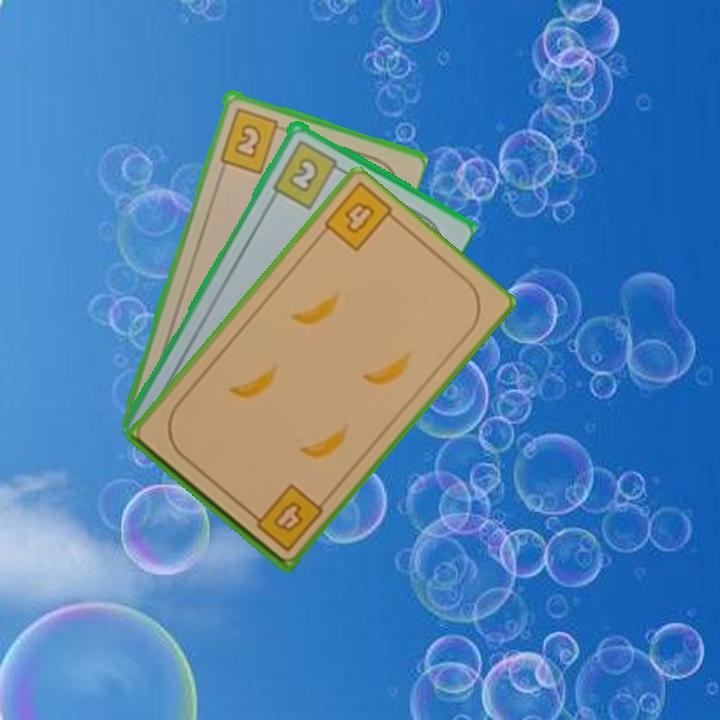2b: (268, 136, 347, 211), (215, 104, 289, 176)
4b: (244, 480, 326, 555), (340, 197, 378, 236)
